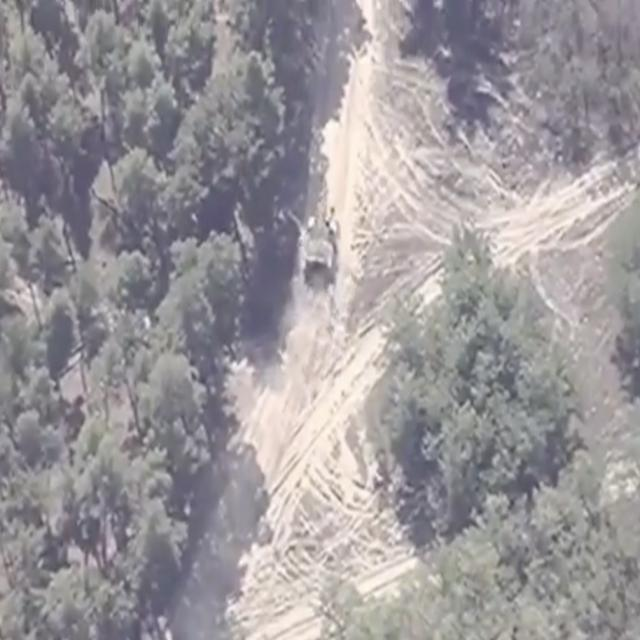vehicle: (287, 204, 338, 280)
